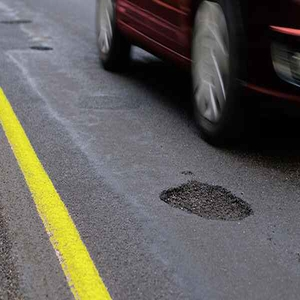pothole: (155, 178, 254, 228), (30, 44, 60, 52)
